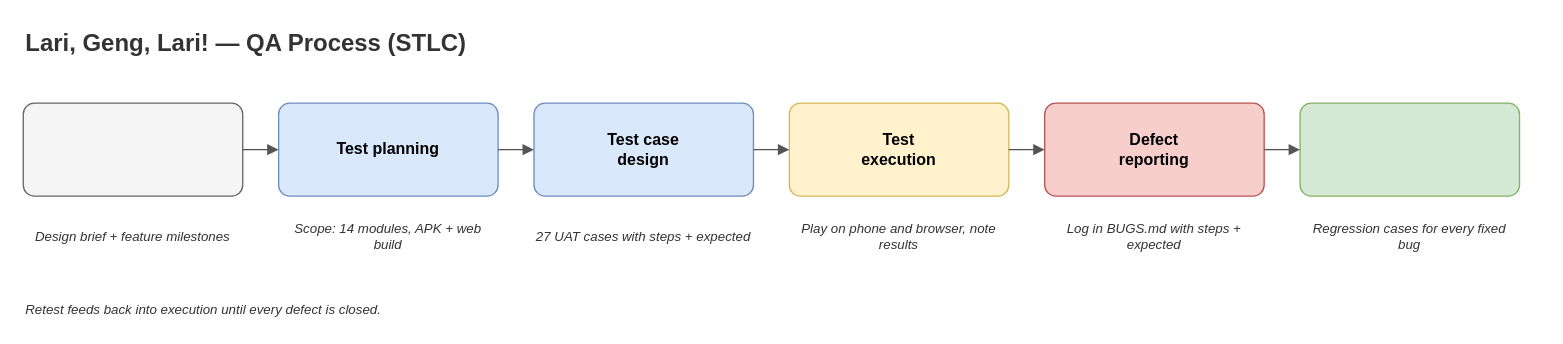
The diagram is 1563 pixels wide and 344 high, and some of its shapes have lost their labels. The shapes that lost their labels are listed below. From the top down, each one's centre as x and y in pixels, then its label:
At pixel 132 149: "Requirement review".
At pixel 1409 149: "Retest & closure".
